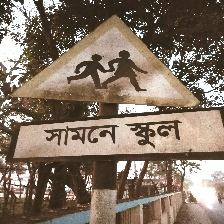School-in-front: (3, 12, 220, 162)
